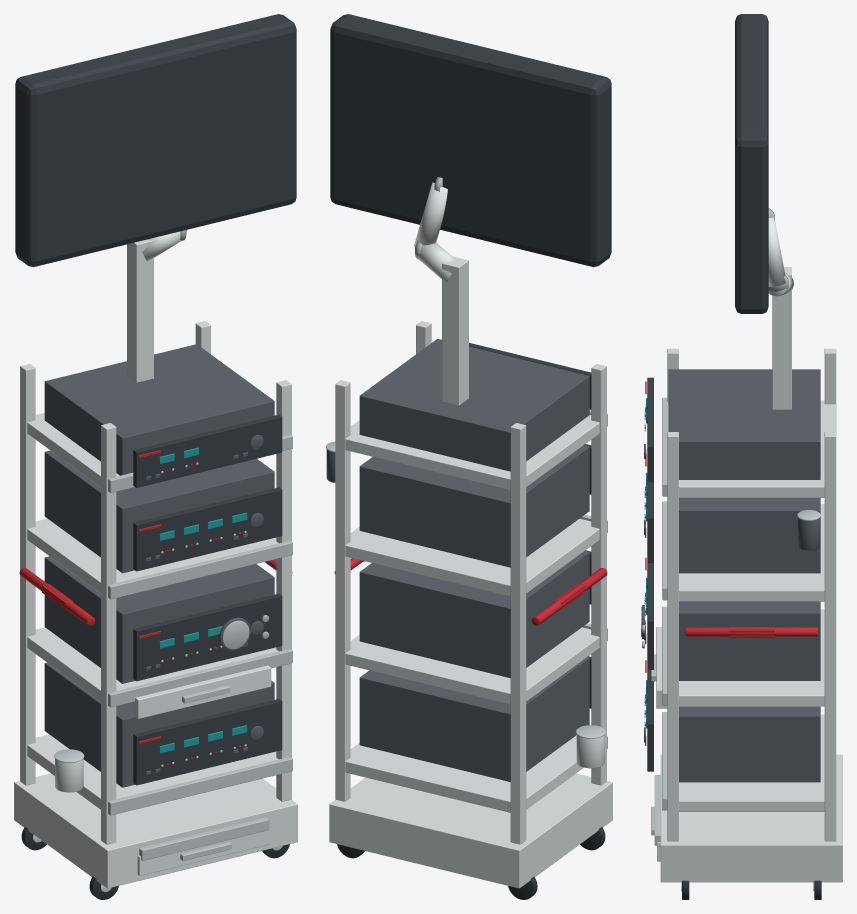
File: arthroscopy_device.fbx
3 renders of one model, left to right at view 1: azimuth 30°, elevation 25°; view 2: azimuth 150°, elevation 25°; view 3: azimuth 270°, elevation 25°, orthographic. The views are drawn at different scales.
Visible parts, largest first — view 1: Body, Monitor, Monitor arm lower; view 2: Body, Monitor, Monitor arm upper, Monitor arm lower; view 3: Body, Monitor, Monitor arm upper.
Part boxes in pixels (box(x1,y1,x2,y2)): Body: box(14, 239, 297, 899); Monitor: box(15, 14, 296, 267); Monitor arm lower: box(142, 231, 181, 260); Body: box(326, 256, 612, 899); Monitor: box(330, 14, 611, 267); Monitor arm upper: box(414, 182, 447, 247); Monitor arm lower: box(417, 243, 454, 282); Body: box(641, 267, 842, 899); Monitor: box(735, 14, 768, 313); Monitor arm upper: box(768, 217, 785, 286).
Size of the model in its own units: 85 by 242 by 56.5.
